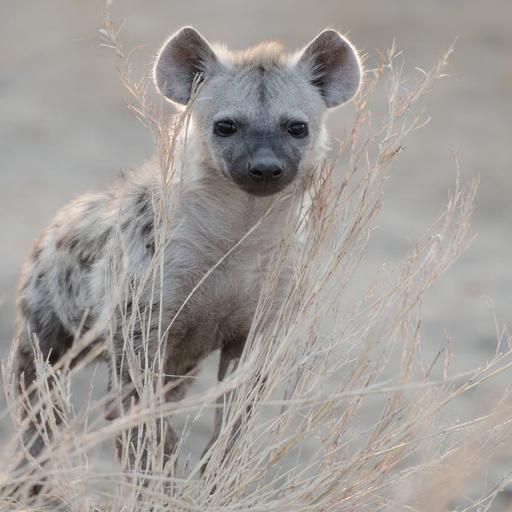Hyena: (2, 5, 369, 508)
